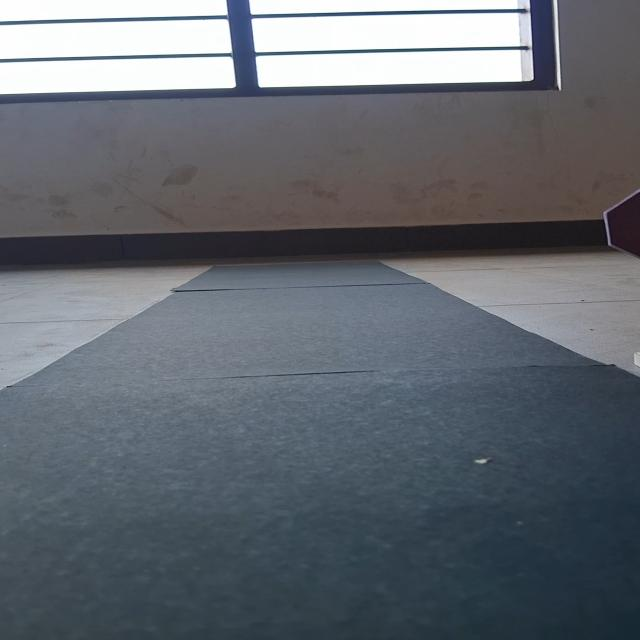Stop: (601, 185, 639, 261)
